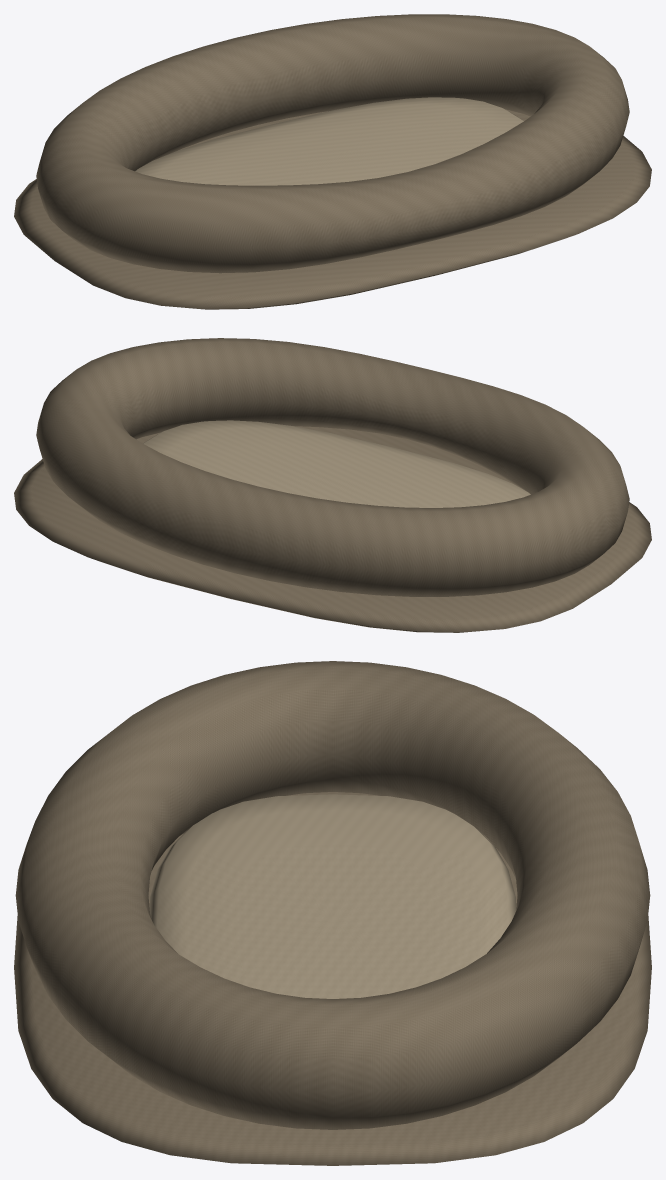
Rendered from dogbed_v06a.glb.
3 renders of one model, top to bottom at view 1: azimuth 30°, elevation 25°; view 2: azimuth 150°, elevation 25°; view 3: azimuth 270°, elevation 25°, orthographic. The views are drawn at different scales.
Parts seen in each view (by area): view 1: VIS_DogBedSoftSurround, VIS_DogBedInsetPad; view 2: VIS_DogBedSoftSurround, VIS_DogBedInsetPad; view 3: VIS_DogBedSoftSurround, VIS_DogBedInsetPad.
Boxes of the visible parts, x1=… form: VIS_DogBedSoftSurround: x1=14, y1=14, x2=651, y2=309; VIS_DogBedInsetPad: x1=135, y1=97, x2=523, y2=185; VIS_DogBedSoftSurround: x1=14, y1=338, x2=651, y2=632; VIS_DogBedInsetPad: x1=143, y1=420, x2=530, y2=507; VIS_DogBedSoftSurround: x1=14, y1=661, x2=651, y2=1165; VIS_DogBedInsetPad: x1=149, y1=794, x2=516, y2=998.
Bounding box in the file's own units: 1.09 × 0.193 × 0.74.
Materials: 2 (2 with a texture image).
